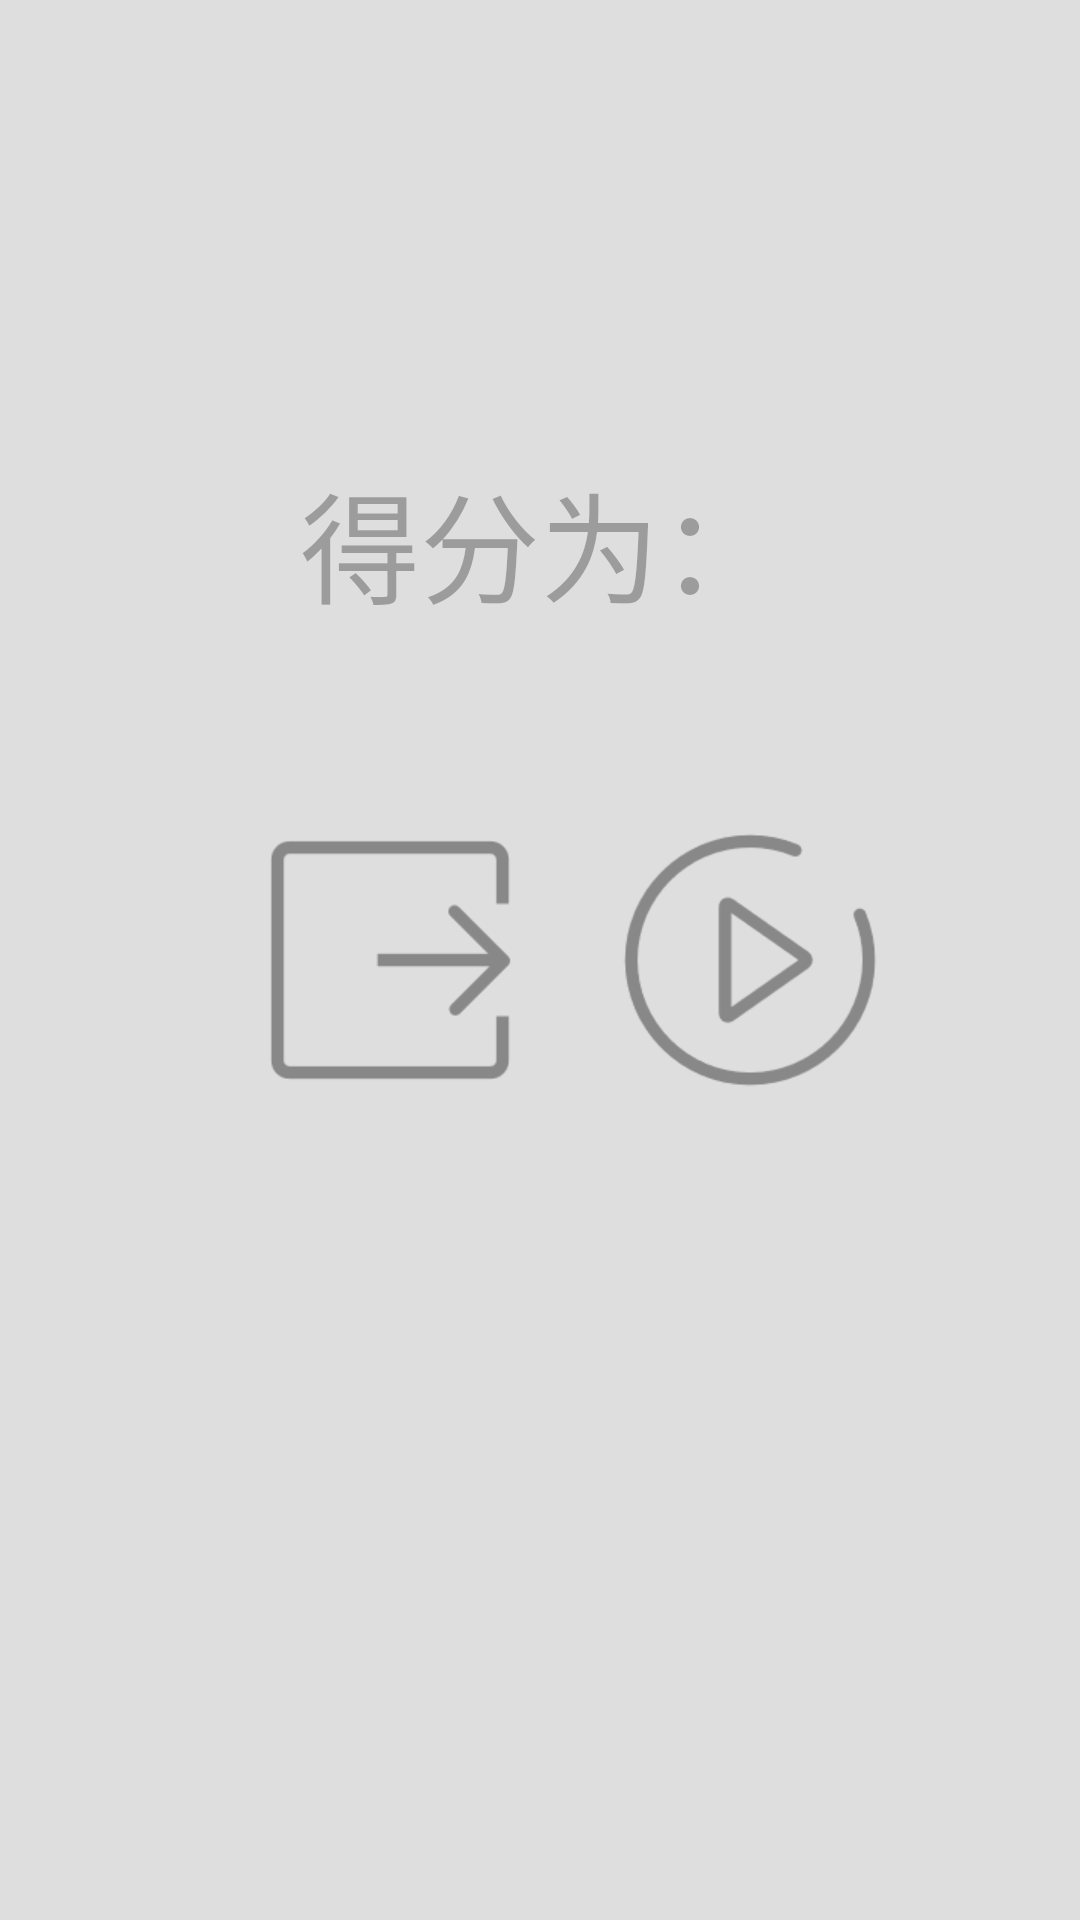

Where to tap for icons on this 1080w x 1920h app screen, as point (x, y):
youxi pasuse exit: point (390, 960)
youxi pause play: point (750, 960)
